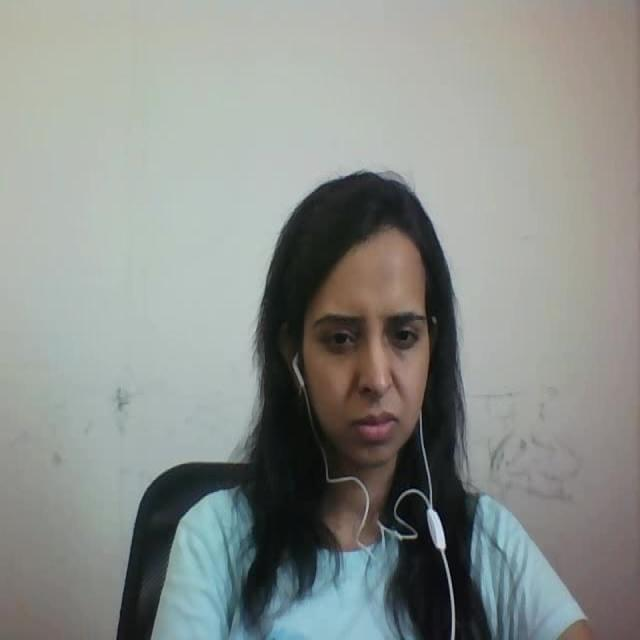Engaged: (231, 154, 482, 460)
